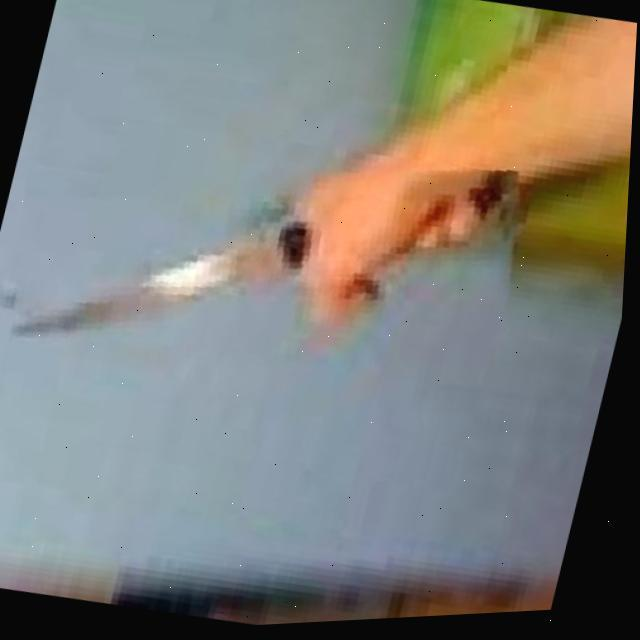knife: (0, 100, 539, 414)
